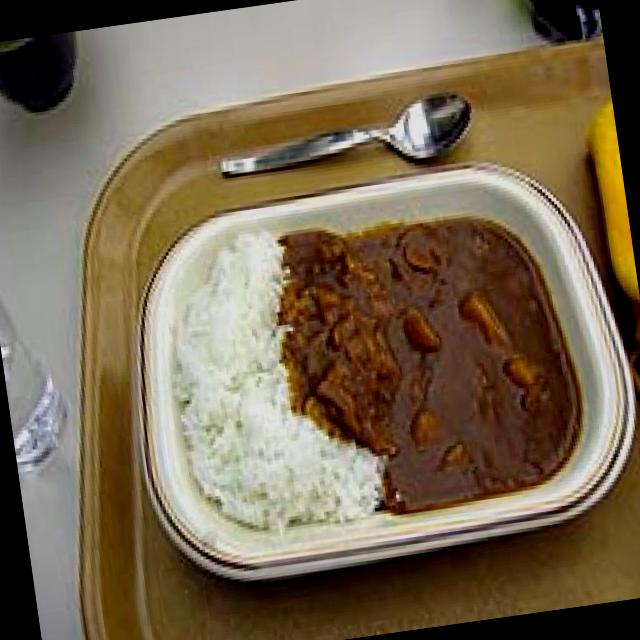Beef Curry: (270, 194, 591, 526)
Rice: (154, 237, 320, 552)
